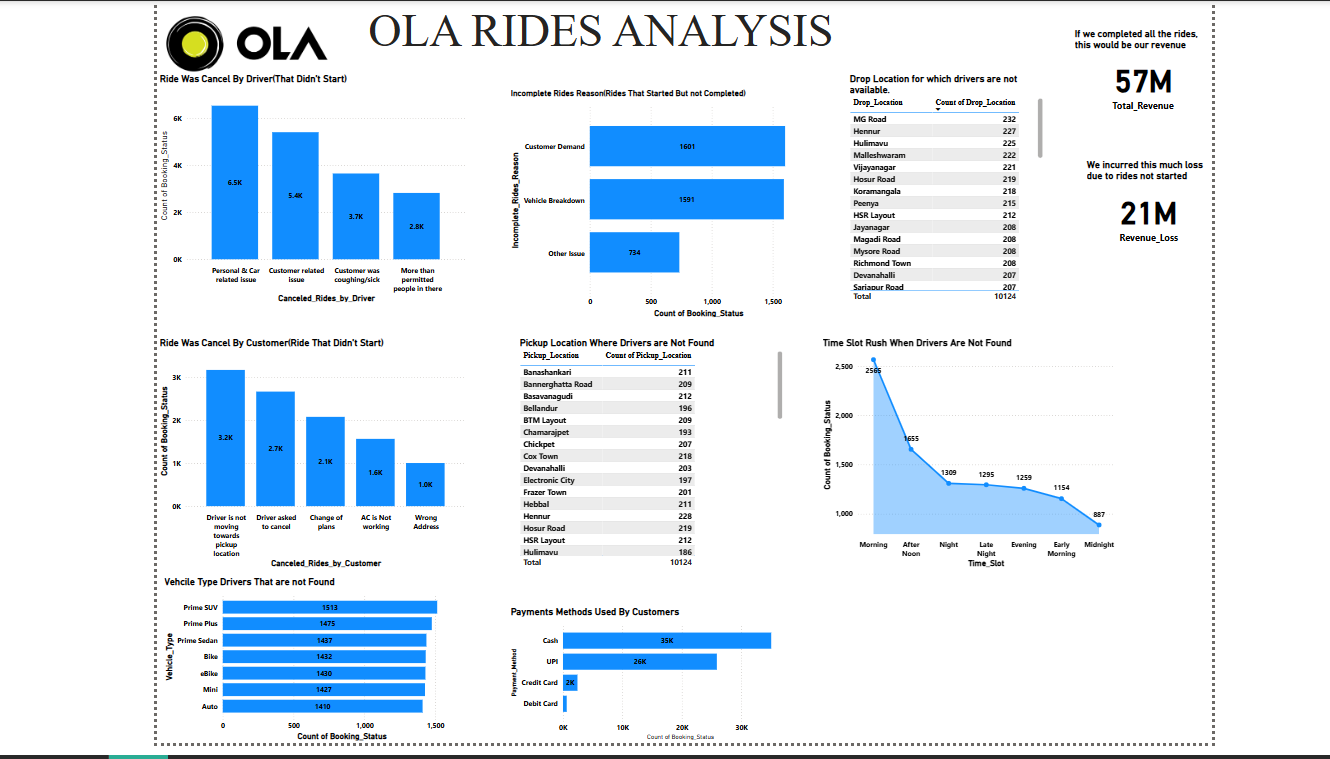

The dashboard page shown, as its layout file describes it:
{"tool":"powerbi","page":{"name":"Page 1","canvas":[1850,1300],"ordinal":0},"visuals":[{"type":"image","box":[9,0,299.1,152.5],"z":0},{"type":"textbox","box":[364.9,0,846.4,125.6],"z":1000},{"type":"clusteredColumnChart","title":"Ride Was Cancel By Driver(That Didn''t Start)","fields":{"Category":["Sheet1.Canceled_Rides_by_Driver"],"Y":["CountNonNull(Sheet1.Booking_Status)"]},"box":[0,126,546,406],"z":2000},{"type":"clusteredBarChart","title":"Incomplete Rides Reason(Rides That Started But not Completed)","fields":{"Category":["Sheet1.Incomplete_Rides_Reason"],"Y":["CountNonNull(Sheet1.Booking_Status)"]},"box":[616,152,546,406],"z":3000},{"type":"columnChart","title":"Ride Was Cancel By Customer(Ride That Didn''t Start)","fields":{"Category":["Sheet1.Canceled_Rides_by_Customer"],"Y":["CountNonNull(Sheet1.Booking_Status)"]},"box":[0,588,546,408],"z":4000},{"type":"tableEx","title":"Pickup Location Where Drivers are Not Found","fields":{"Values":["Sheet1.Pickup_Location","CountNonNull(Sheet1.Pickup_Location)"]},"box":[630,588,470,408],"z":5000},{"type":"tableEx","title":"Drop Location for which drivers are not available.","fields":{"Values":["Sheet1.Drop_Location","CountNonNull(Sheet1.Drop_Location)"]},"box":[1210,126,348,406],"z":6000},{"type":"lineChart","title":"Time Slot Rush When Drivers Are Not Found","fields":{"Category":["Sheet1.Time_Slot"],"Y":["CountNonNull(Sheet1.Booking_Status)"]},"box":[1162,588,524,408],"z":7000},{"type":"clusteredBarChart","title":"Vehcile Type Drivers That are not Found","fields":{"Category":["Sheet1.Vehicle_Type"],"Y":["CountNonNull(Sheet1.Booking_Status)"]},"box":[8,1006,546,294],"z":8000},{"type":"card","title":"If we completed all the rides, this would be our revenue","fields":{"Values":["new_measures.Over_All_Total_Revenue"]},"box":[1602,46,248,156],"z":9000},{"type":"card","title":"We incurred this much loss due to rides not started","fields":{"Values":["new_measures.Revenue_Loss"]},"box":[1624,276,226,160],"z":10000},{"type":"clusteredBarChart","title":"Payments Methods Used By Customers","fields":{"Category":["Sheet1.Payment_Method"],"Y":["CountNonNull(Sheet1.Booking_Status)"]},"box":[616,1060,524,240],"z":12000}]}

Visuals, with their boxes on the page's 1850x1300 design canvas (x1, y1, x2, y2). These are canvas units, not pixel positions in the 1330x759 screenshot, which may show the page scaled, cropped or inside an application window:
image: region(9, 0, 308, 152)
textbox: region(365, 0, 1211, 126)
"Ride Was Cancel By Driver(That Didn''t Start)" clusteredColumnChart: region(0, 126, 546, 532)
"Incomplete Rides Reason(Rides That Started But not Completed)" clusteredBarChart: region(616, 152, 1162, 558)
"Ride Was Cancel By Customer(Ride That Didn''t Start)" columnChart: region(0, 588, 546, 996)
"Pickup Location Where Drivers are Not Found" tableEx: region(630, 588, 1100, 996)
"Drop Location for which drivers are not available." tableEx: region(1210, 126, 1558, 532)
"Time Slot Rush When Drivers Are Not Found" lineChart: region(1162, 588, 1686, 996)
"Vehcile Type Drivers That are not Found" clusteredBarChart: region(8, 1006, 554, 1300)
"If we completed all the rides, this would be our revenue" card: region(1602, 46, 1850, 202)
"We incurred this much loss due to rides not started" card: region(1624, 276, 1850, 436)
"Payments Methods Used By Customers" clusteredBarChart: region(616, 1060, 1140, 1300)
